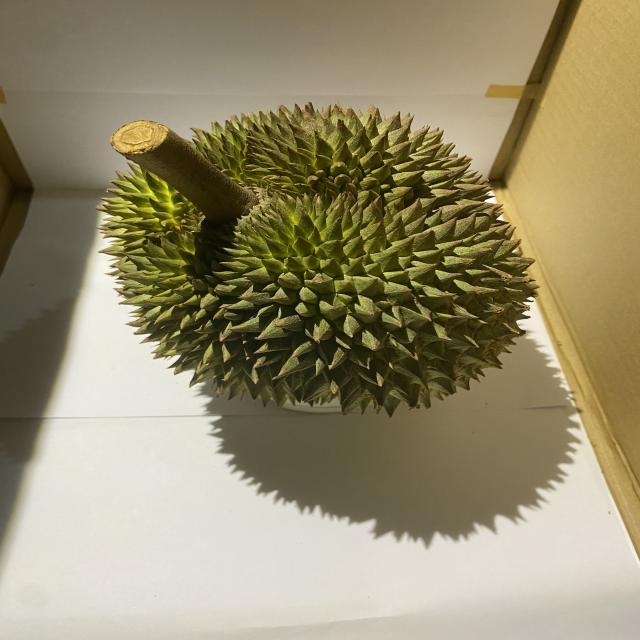immature: (92, 101, 548, 419)
